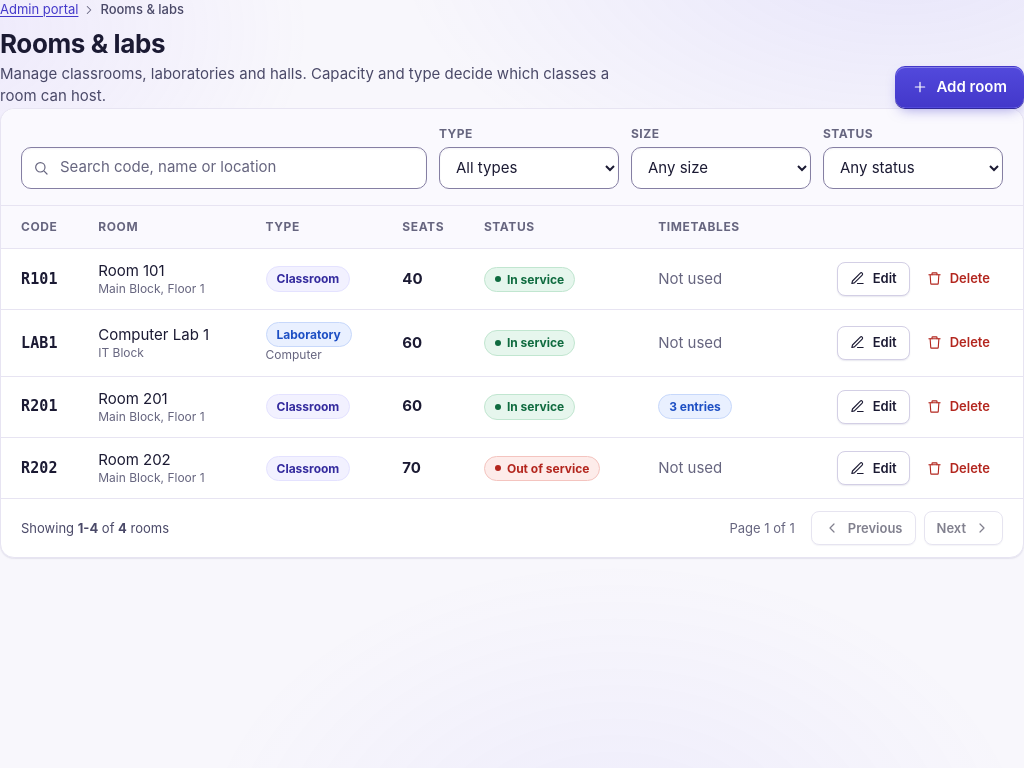
Rooms screen - delete › asks first; Cancel changes nothing; confirming deletes an unused room
What coordinates should you click on to do the following:
click the button with aria-label "Delete R101 Room 101"
I would click on:
 (958, 279)
Its box is [914, 262, 1003, 296].
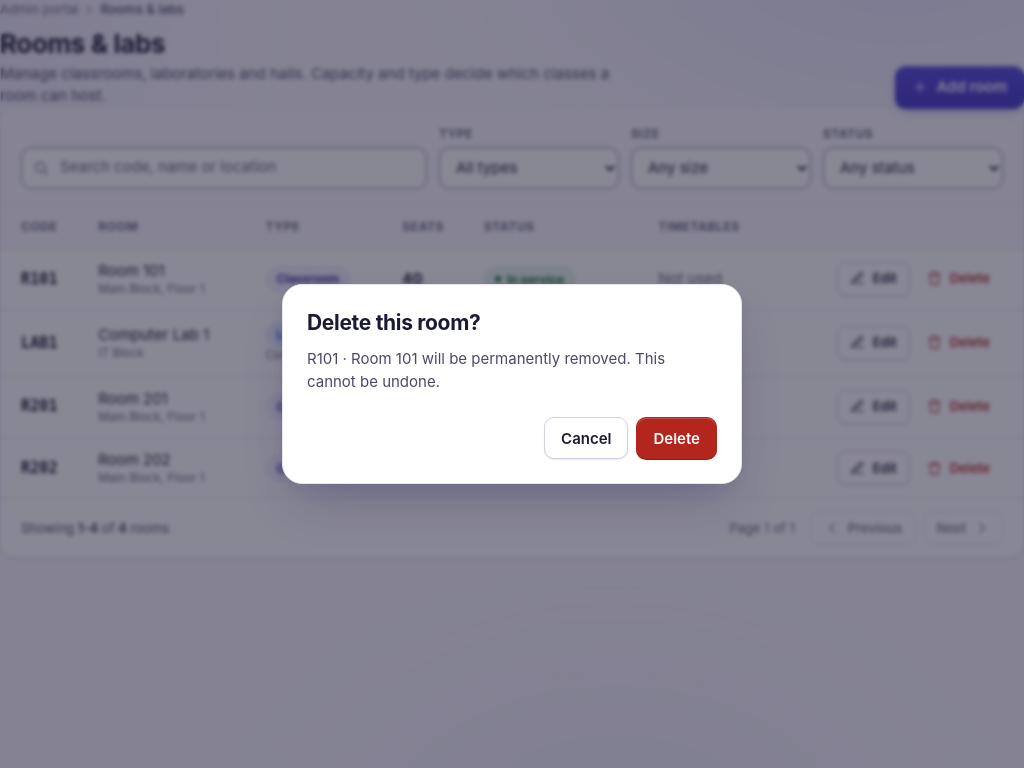
What coordinates should you click on to do the following:
click the button "Cancel"
I would click on:
 (586, 438)
Its box is [544, 417, 628, 459].
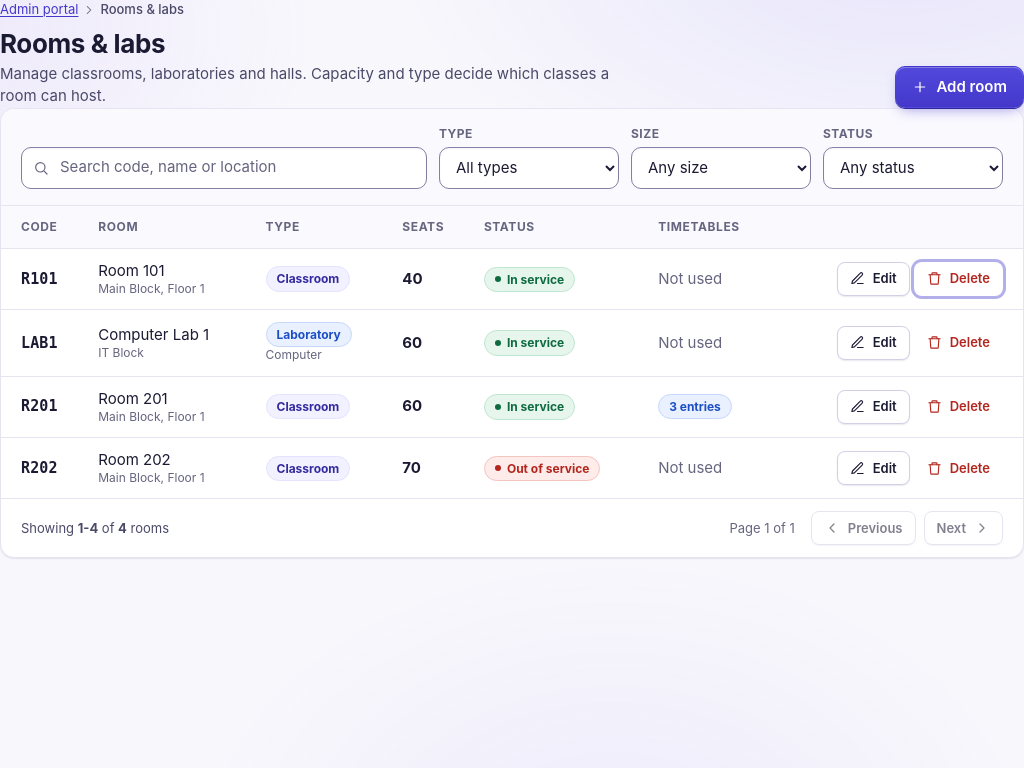
What coordinates should you click on to do the following:
click the button with aria-label "Delete R101 Room 101"
I would click on:
 (958, 279)
Its box is [914, 262, 1003, 296].
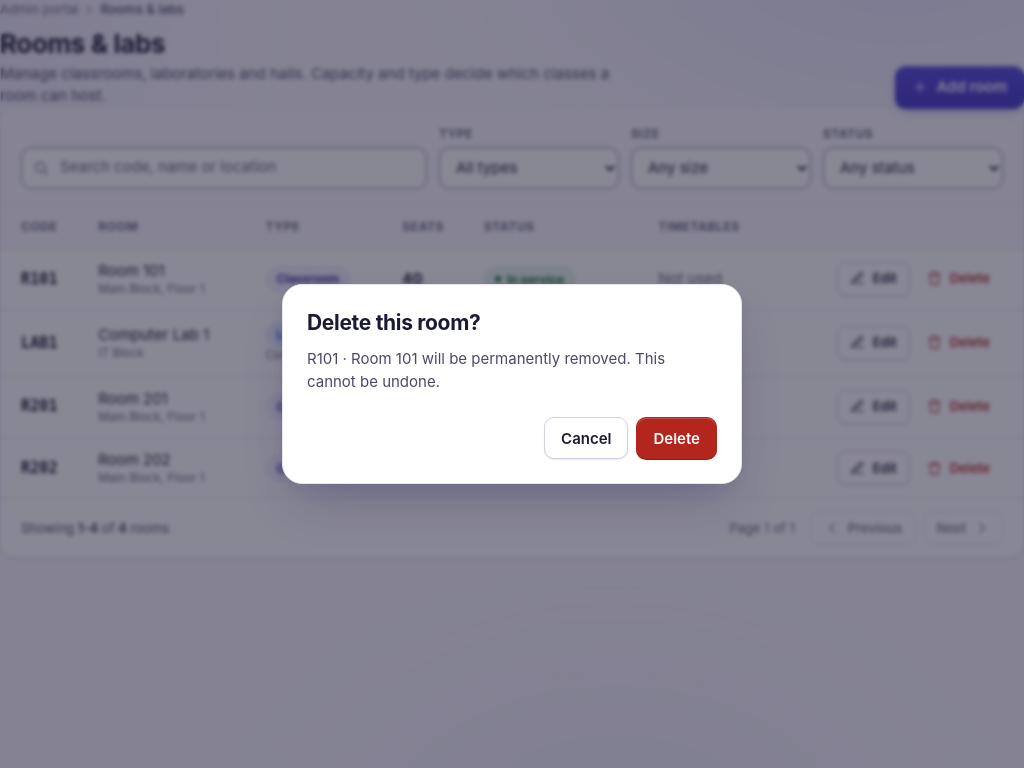
What coordinates should you click on to do the following:
click the button "Delete"
I would click on:
 (677, 438)
Its box is [636, 417, 717, 459].
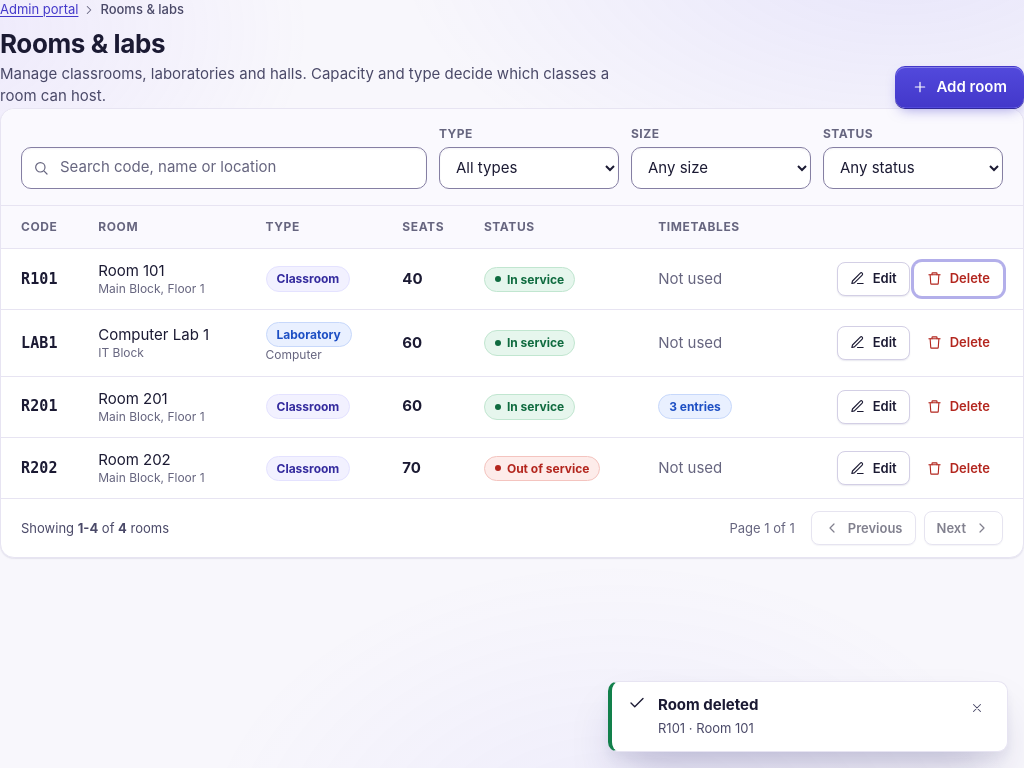
Expected: the text "Room deleted" is shown, [658, 694, 758, 716]
